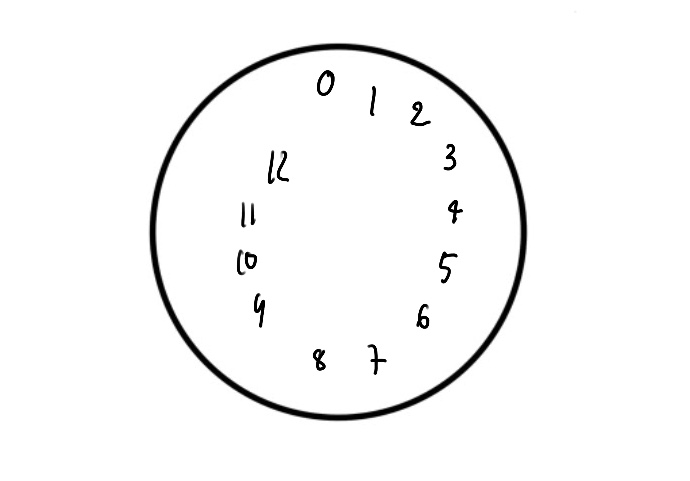eight: (308, 339, 334, 377)
eleven: (233, 197, 264, 234)
five: (437, 249, 459, 288)
four: (446, 196, 463, 234)
nine: (248, 290, 275, 339)
one: (365, 83, 385, 131)
seven: (361, 341, 393, 378)
six: (413, 304, 433, 335)
ten: (232, 245, 262, 279)
three: (435, 137, 461, 174)
twelve: (264, 143, 291, 189)
two: (407, 92, 438, 135)
